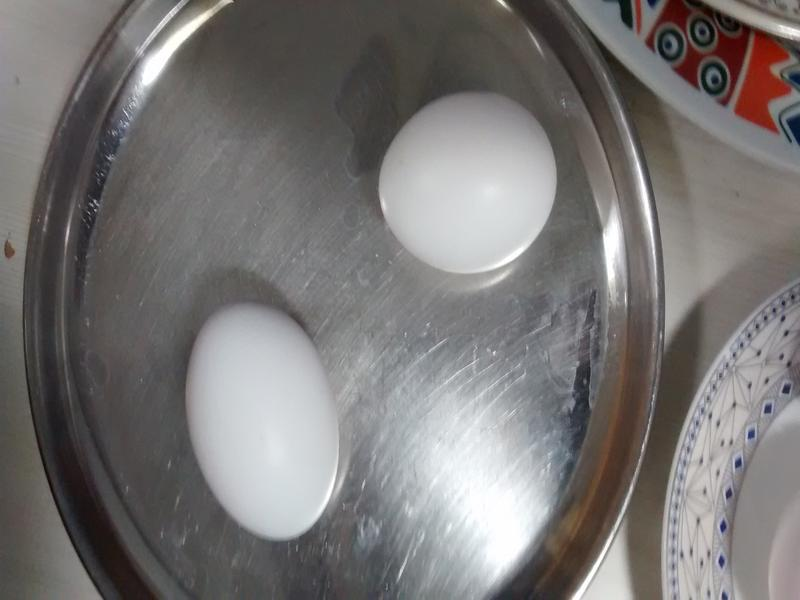egg: (379, 94, 562, 277)
